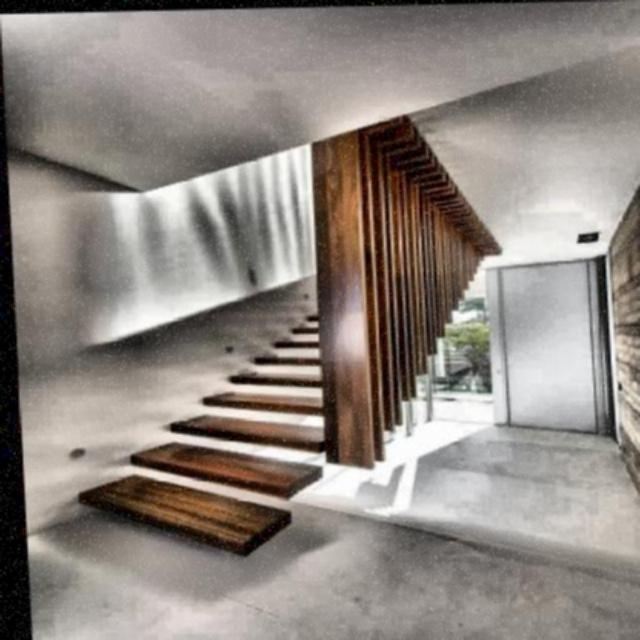stair: (55, 298, 354, 550)
